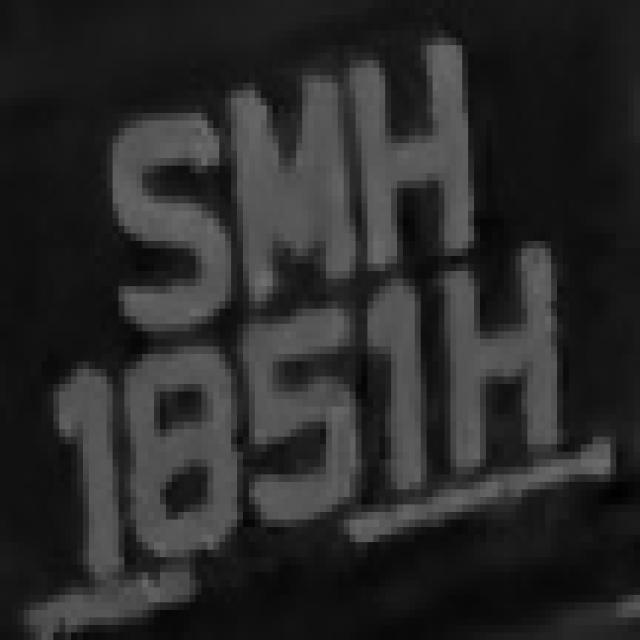1: (349, 264, 426, 534), (60, 354, 130, 602)
5: (219, 278, 356, 550)
8: (119, 331, 237, 580)
H: (332, 38, 480, 271), (432, 248, 569, 497)
M: (208, 60, 356, 301)
S: (95, 90, 237, 347)
